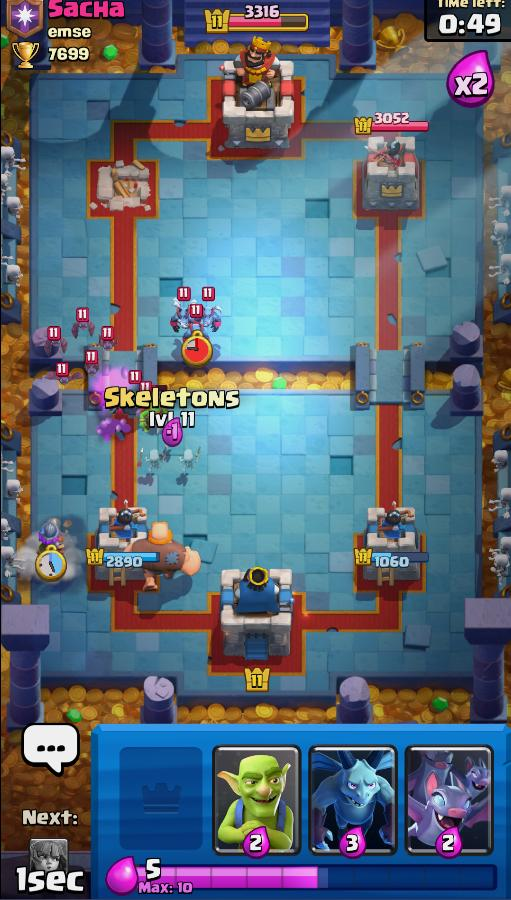bat: (91, 333, 127, 352), (43, 370, 89, 384), (40, 338, 72, 351), (72, 320, 98, 335), (81, 363, 107, 377)
gargouille: (196, 305, 226, 331), (165, 308, 196, 327)
geant: (121, 520, 200, 591)
gobelin_lances: (137, 405, 171, 433)
mini_PEKKA: (110, 403, 139, 419)
mousquetaire: (37, 516, 69, 568)
squelette: (143, 448, 172, 477), (177, 447, 202, 477)
